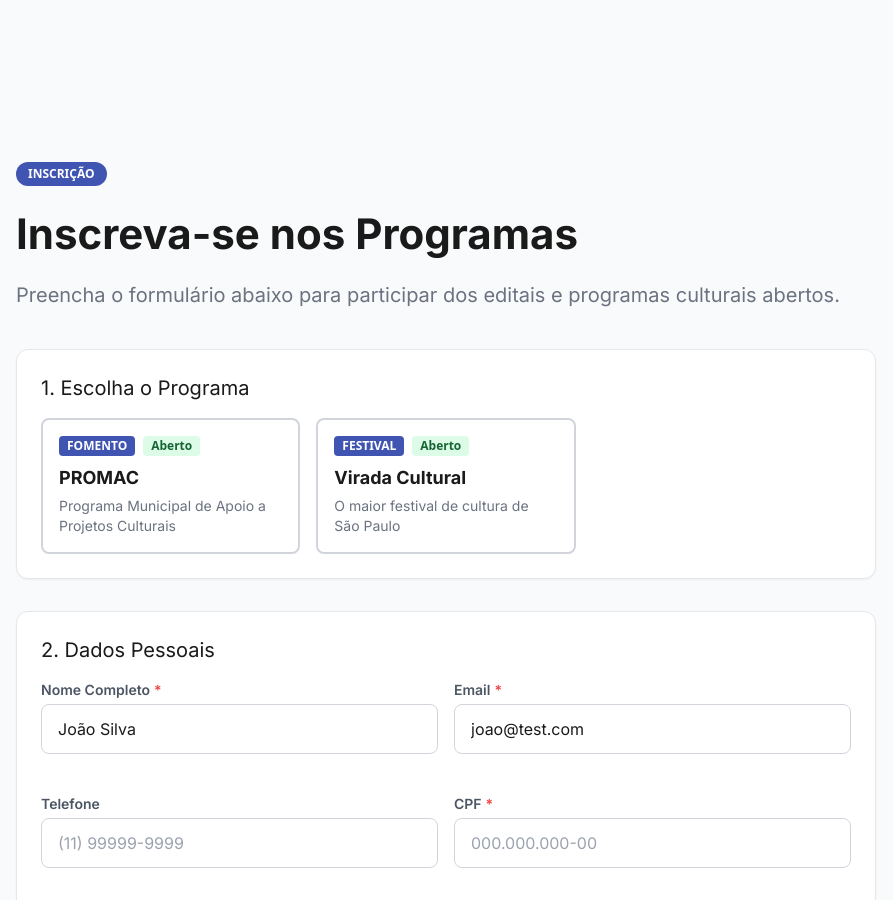
Test: CadastroPage Component › Estado autenticado › Submissão do formulário › habilita botão quando programa selecionado
This screenshot has width=893, height=900.
Expected: the heading "PROMAC" is shown, [59,467,139,488]
Click the button "PROMAC". click: (171, 486)
box: [41,418,300,554]
(page scrolled)
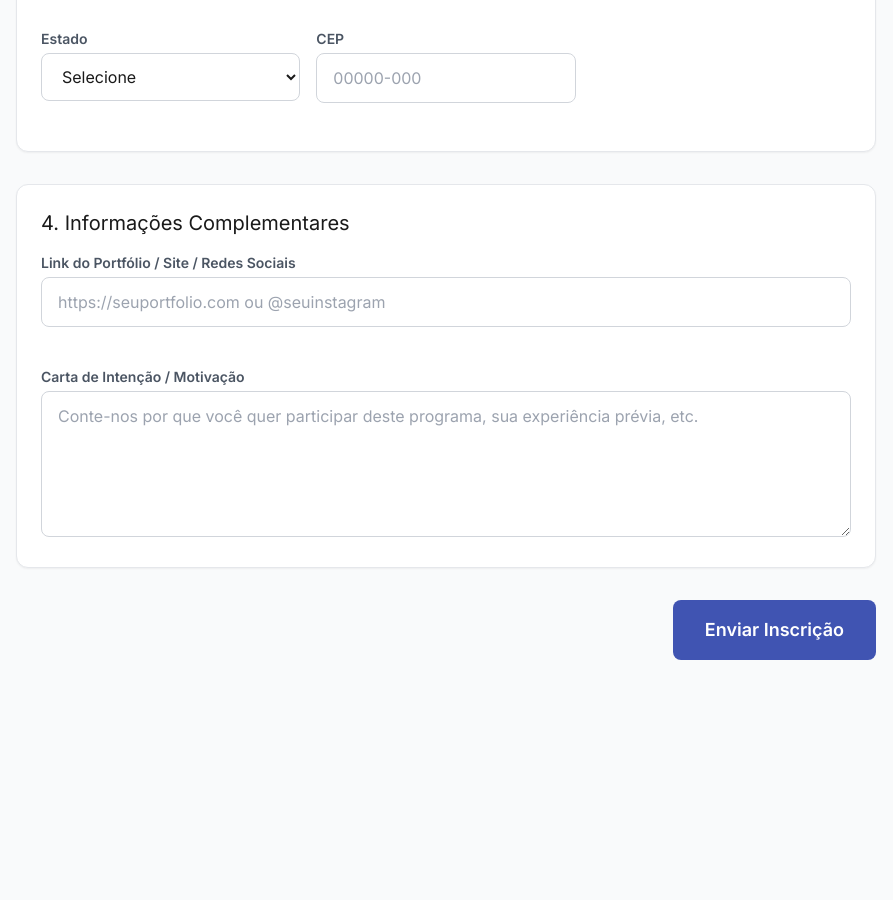
Expected: the button "Enviar Inscrição" is enabled, [673,600,876,660]
